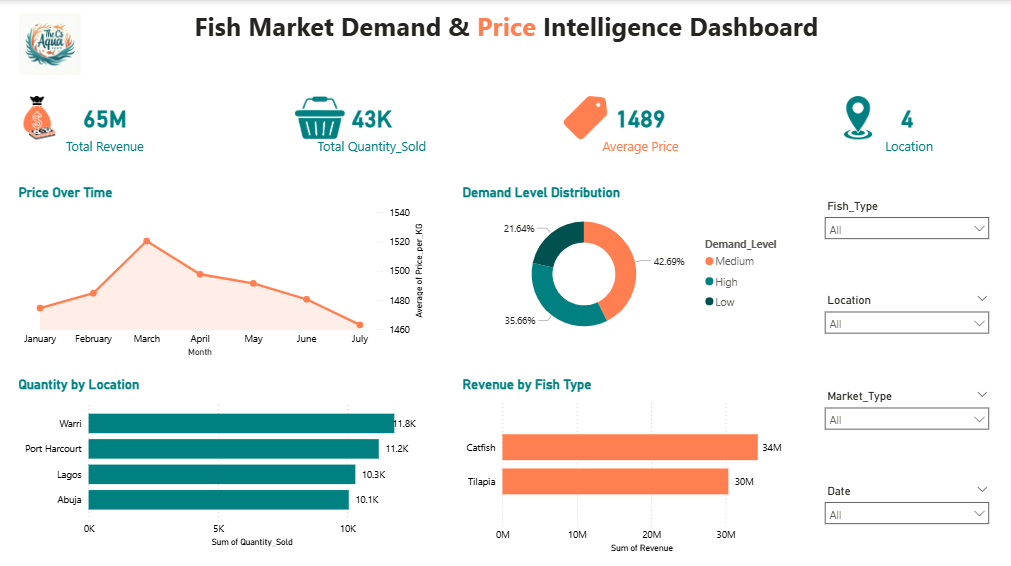

This screenshot's page, from the dashboard's own definition file:
{"tool":"powerbi","page":{"name":"Page 1","canvas":[1280,720],"ordinal":0},"visuals":[{"type":"card","fields":{"Values":["Sum(cleaned_fish_market_data.Revenue)"]},"box":[20.8,109.6,226.8,98.3],"z":0},{"type":"card","fields":{"Values":["Sum(cleaned_fish_market_data.Quantity_Sold)"]},"box":[357.8,109.6,226.8,98.3],"z":1000},{"type":"card","fields":{"Values":["Avg(cleaned_fish_market_data.Price_per_KG)"]},"box":[694.8,109.6,226.8,98.3],"z":2000},{"type":"lineChart","title":"Price Over Time","fields":{"Category":["cleaned_fish_market_data.Date.Variation.Date Hierarchy.Month","cleaned_fish_market_data.Date.Variation.Date Hierarchy.Day"],"Y2":["Avg(cleaned_fish_market_data.Price_per_KG)"]},"box":[20.8,232.4,519.7,221.1],"z":3000},{"type":"barChart","title":"Quantity by Location","fields":{"Category":["cleaned_fish_market_data.Location"],"Y":["Sum(cleaned_fish_market_data.Quantity_Sold)"]},"box":[20.8,474.3,519.7,219.2],"z":4000},{"type":"barChart","title":"Revenue by Fish Type","fields":{"Category":["cleaned_fish_market_data.Fish_Type"],"Y":["Sum(cleaned_fish_market_data.Revenue)"]},"box":[580.2,474.3,423.3,226.8],"z":5000},{"type":"donutChart","title":"Demand Level Distribution","fields":{"Category":["cleaned_fish_market_data.Demand_Level"],"Y":["Sum(cleaned_fish_market_data.Quantity_Sold)"]},"box":[580.2,232.4,423.3,204.1],"z":6000},{"type":"slicer","fields":{"Values":["cleaned_fish_market_data.Fish_Type"]},"box":[1031.8,245.7,226.8,71.8],"z":7000},{"type":"slicer","fields":{"Values":["cleaned_fish_market_data.Location"]},"box":[1031.8,365.4,226.8,71.8],"z":8000},{"type":"slicer","fields":{"Values":["cleaned_fish_market_data.Market_Type"]},"box":[1031.8,485,226.8,71.8],"z":9000},{"type":"slicer","fields":{"Values":["cleaned_fish_market_data.Date.Variation.Date Hierarchy.Month","cleaned_fish_market_data.Date.Variation.Date Hierarchy.Day"]},"box":[1031.8,604.7,226.8,88.8],"z":10000},{"type":"textbox","box":[124.1,5.7,1031.8,64.3],"z":11000},{"type":"image","box":[20.8,17,88.8,77.5],"z":12001},{"type":"card","fields":{"Values":["Count(cleaned_fish_market_data.Location)"]},"box":[1031.8,109.6,226.8,98.3],"z":12002},{"type":"image","box":[20.8,120.9,62.4,54.8],"z":12003},{"type":"image","box":[374.2,120.9,62.4,54.8],"z":12004},{"type":"image","box":[708.7,120.9,62.4,54.8],"z":12005},{"type":"image","box":[1052.6,120.9,62.4,54.8],"z":12006}]}

Visuals, with their boxes in screenshot pixels (x1, y1, x2, y2), scaled from the page's 1280x720 canvas onto the 1011x566 screenshot:
card - Sum(cleaned_fish_market_data.Revenue): x1=16, y1=86, x2=196, y2=163
card - Sum(cleaned_fish_market_data.Quantity_Sold): x1=283, y1=86, x2=462, y2=163
card - Avg(cleaned_fish_market_data.Price_per_KG): x1=549, y1=86, x2=728, y2=163
"Price Over Time" lineChart: x1=16, y1=183, x2=427, y2=357
"Quantity by Location" barChart: x1=16, y1=373, x2=427, y2=545
"Revenue by Fish Type" barChart: x1=458, y1=373, x2=793, y2=551
"Demand Level Distribution" donutChart: x1=458, y1=183, x2=793, y2=343
slicer - cleaned_fish_market_data.Fish_Type: x1=815, y1=193, x2=994, y2=250
slicer - cleaned_fish_market_data.Location: x1=815, y1=287, x2=994, y2=344
slicer - cleaned_fish_market_data.Market_Type: x1=815, y1=381, x2=994, y2=438
slicer - cleaned_fish_market_data.Date.Variation.Date Hierarchy.Month x cleaned_fish_market_data.Date.Variation.Date Hierarchy.Day: x1=815, y1=475, x2=994, y2=545
textbox: x1=98, y1=4, x2=913, y2=55
image: x1=16, y1=13, x2=87, y2=74
card - Count(cleaned_fish_market_data.Location): x1=815, y1=86, x2=994, y2=163
image: x1=16, y1=95, x2=66, y2=138
image: x1=296, y1=95, x2=345, y2=138
image: x1=560, y1=95, x2=609, y2=138
image: x1=831, y1=95, x2=881, y2=138
